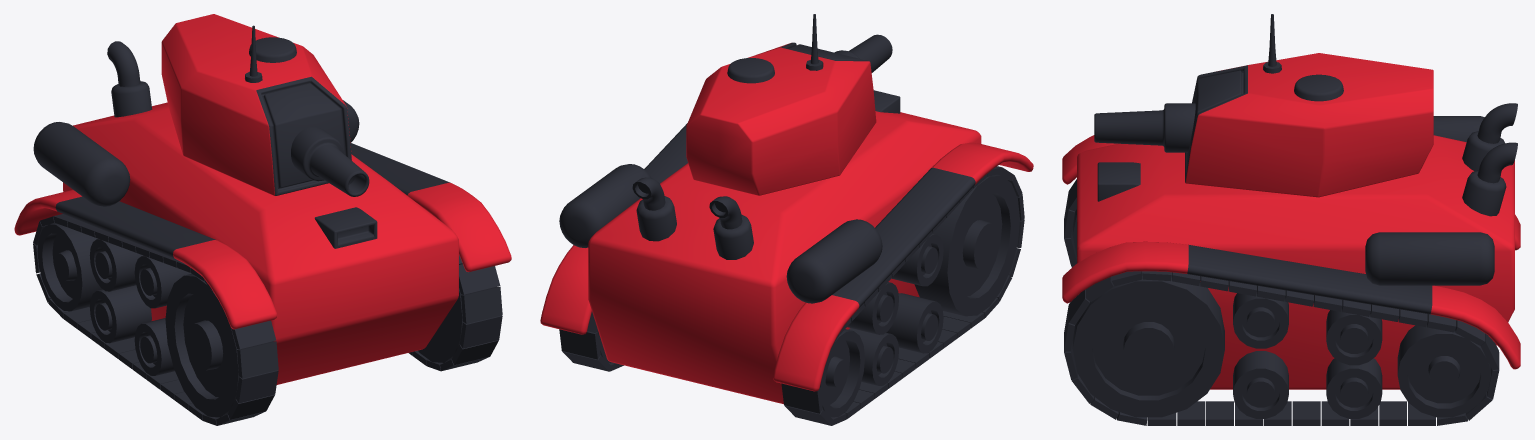
File: Tank.fbx
3 views of the same model, side by side, from view 1: azimuth 30°, elevation 25°; view 2: azimuth 150°, elevation 25°; view 3: azimuth 270°, elevation 25° (orthographic). The views are drawn at different scales.
Parts seen in each view (by area): view 1: Tank; view 2: Tank; view 3: Tank.
Part boxes in pixels (x1=…): Tank: x1=14, y1=14, x2=511, y2=425; Tank: x1=540, y1=14, x2=1033, y2=425; Tank: x1=1062, y1=14, x2=1520, y2=425.
Bounding box in the file's own units: 1.54 × 1.69 × 2.09.
